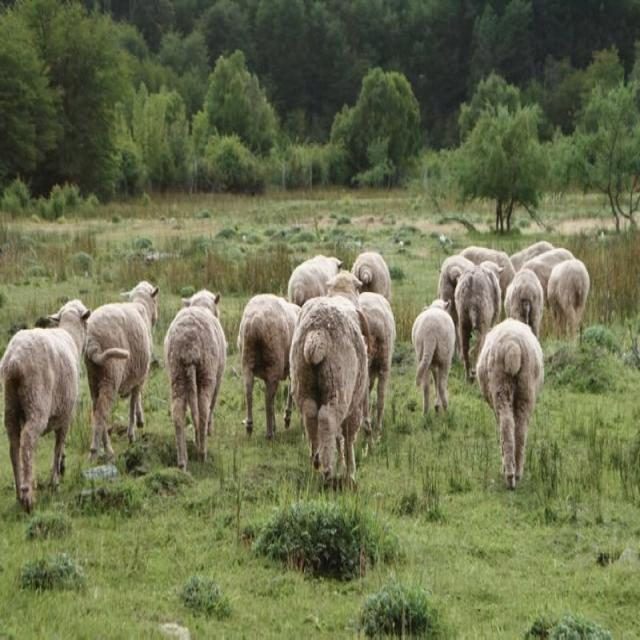sheep: (1, 299, 91, 510), (290, 296, 369, 480), (85, 281, 159, 456), (477, 318, 544, 489), (165, 290, 227, 470), (238, 293, 301, 439), (455, 261, 503, 381), (359, 292, 396, 435), (413, 300, 456, 415), (547, 259, 590, 337), (438, 255, 474, 344), (288, 255, 342, 305), (462, 247, 518, 294), (522, 248, 575, 297), (506, 269, 544, 336), (352, 250, 392, 300), (510, 241, 554, 269), (327, 271, 360, 305)
